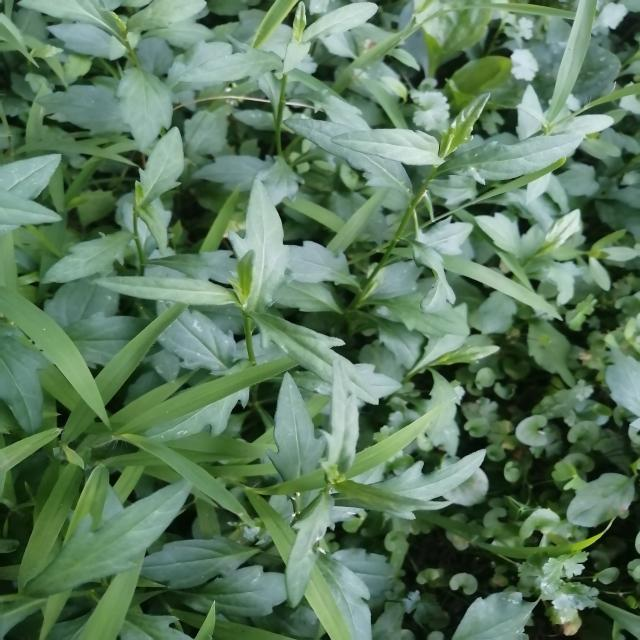Indian aster: (71, 175, 419, 398), (0, 1, 282, 144)
